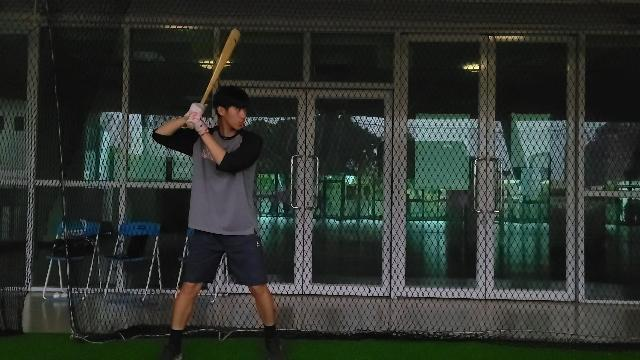bat: (200, 28, 242, 104)
